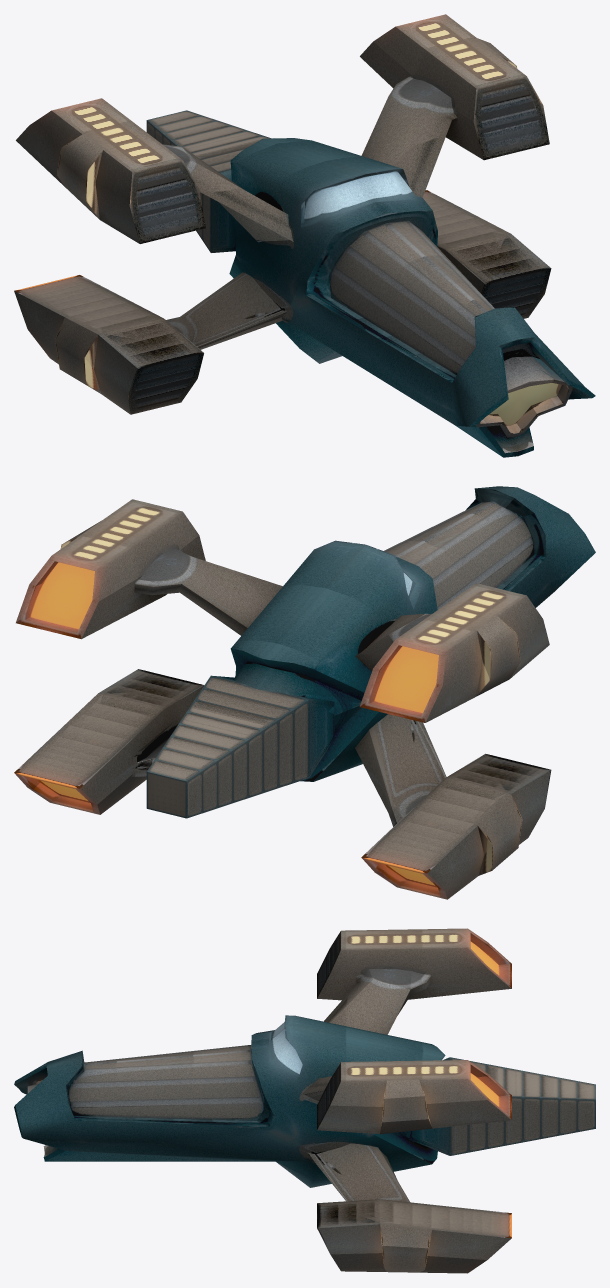
Rendered from vehicle_spacecraft_ship_vanquisher_001_gr_mesh.FBX.
The picture shows the model from 3 angles, top to bottom: view 1: azimuth 30°, elevation 25°; view 2: azimuth 150°, elevation 25°; view 3: azimuth 270°, elevation 25°; orthographic projection. The views are drawn at different scales.
Visible parts, largest first — view 1: vehicle_spacecraft_ship_vanquisher_001_gr; view 2: vehicle_spacecraft_ship_vanquisher_001_gr; view 3: vehicle_spacecraft_ship_vanquisher_001_gr.
Part boxes in pixels (bbox=[...]): vehicle_spacecraft_ship_vanquisher_001_gr: bbox=[14, 14, 595, 457]; vehicle_spacecraft_ship_vanquisher_001_gr: bbox=[14, 486, 595, 899]; vehicle_spacecraft_ship_vanquisher_001_gr: bbox=[14, 928, 595, 1273].
Size of the model in its own units: 6.2 by 3.35 by 9.12.
